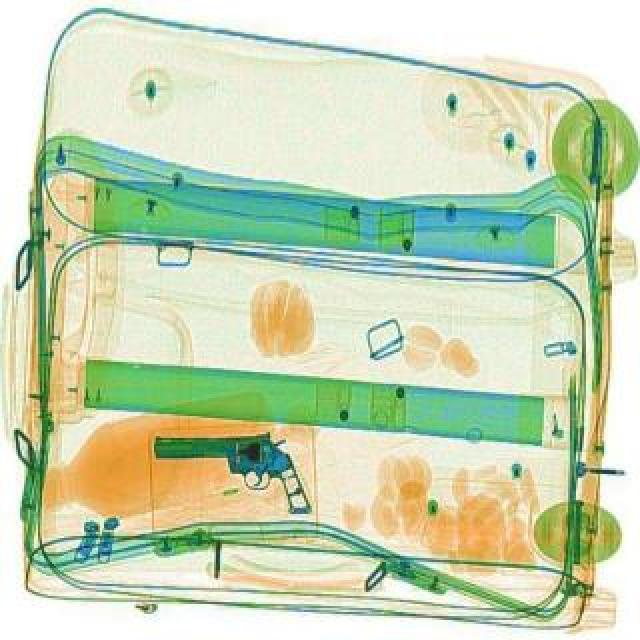gun: (142, 422, 318, 512)
